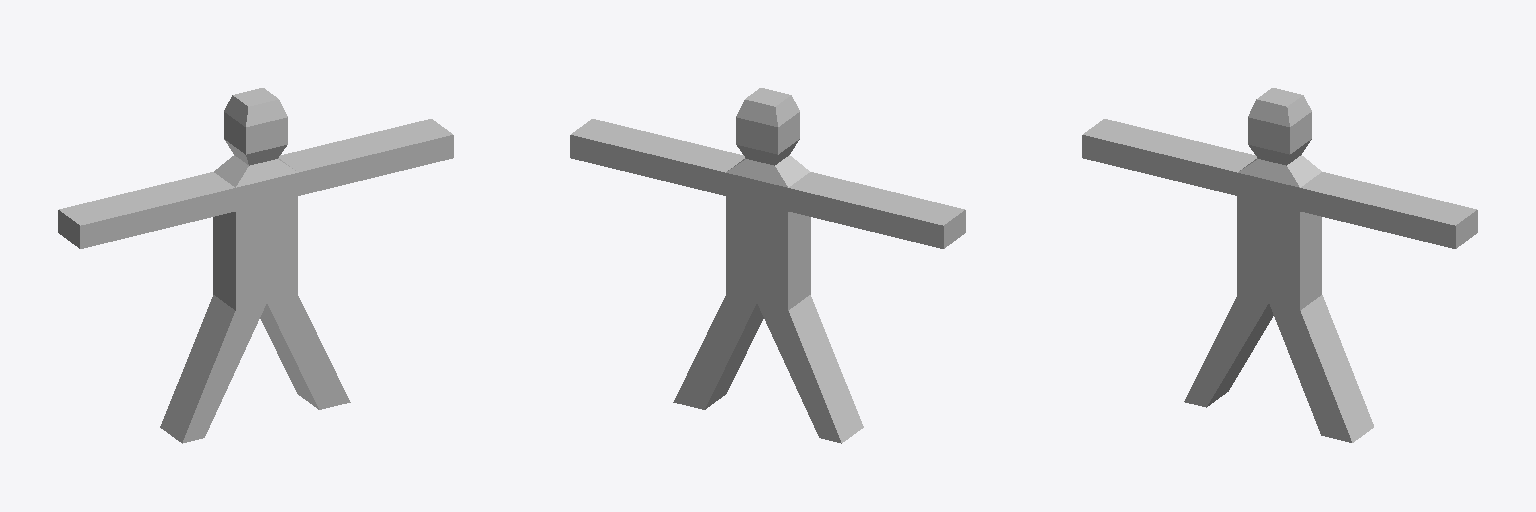
File: humanoid_base01_rigtest.obj
3 renders of one model, left to right at view 1: azimuth 30°, elevation 25°; view 2: azimuth 150°, elevation 25°; view 3: azimuth 330°, elevation 25°, orthographic.
Visible parts, largest first — view 1: Cube; view 2: Cube; view 3: Cube.
Part boxes in pixels (x1,y1,x2,y2): Cube: (58,88,453,443); Cube: (570,88,965,443); Cube: (1082,88,1477,442).
Bounding box in the file's own units: 2 × 1.63 × 0.2048.